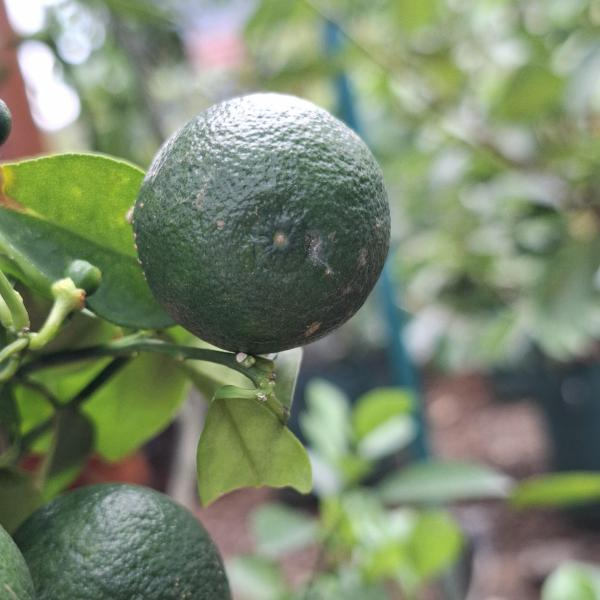Scab: (126, 99, 404, 364)
